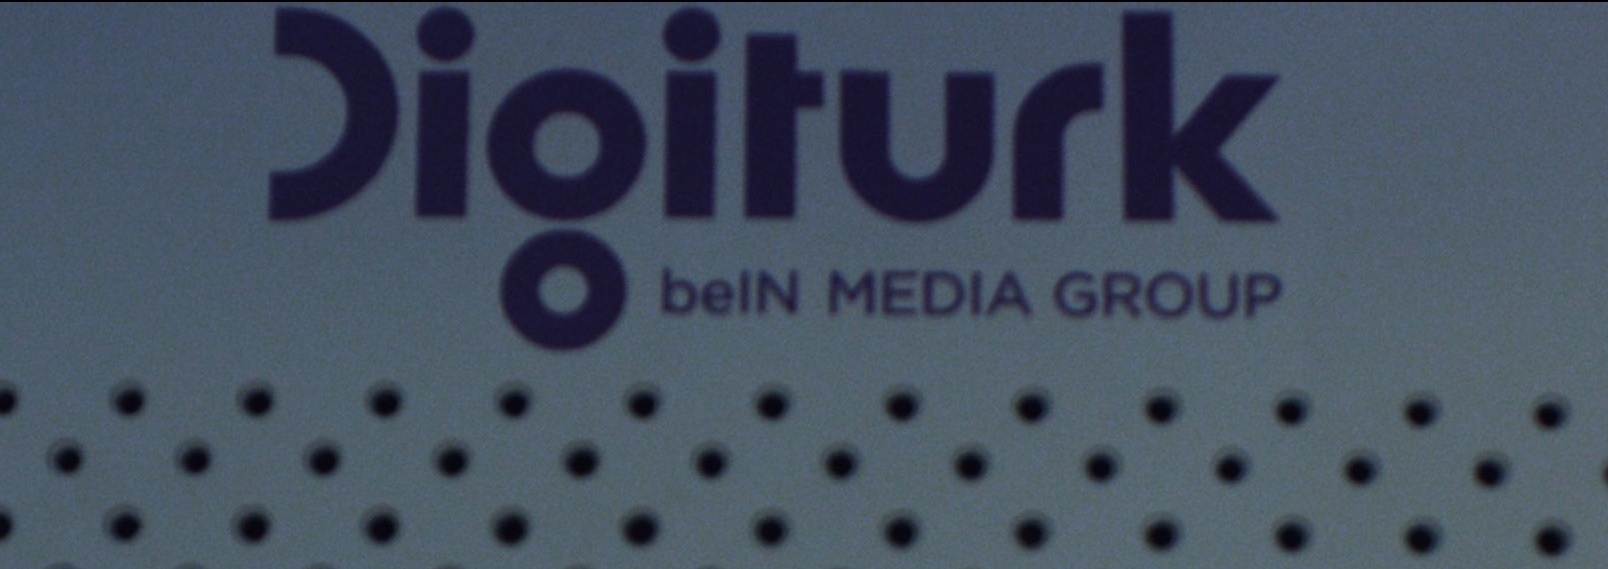BW_H168ADigiturk: (250, 4, 1316, 367)
